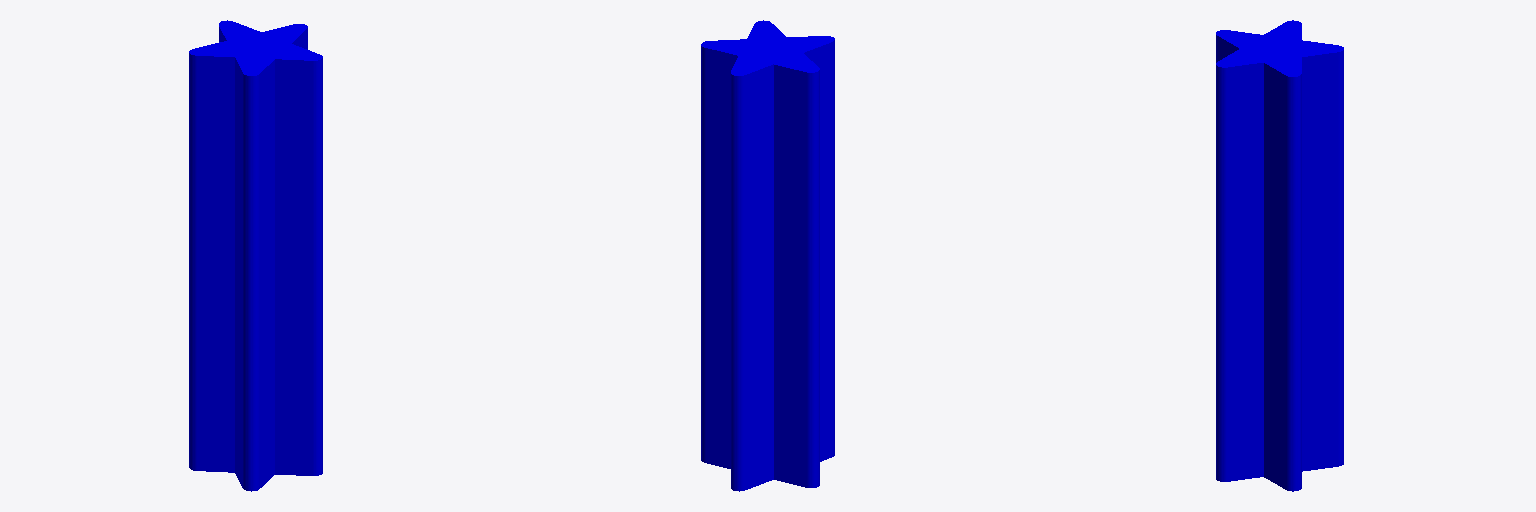
URDF robot description (board2_block18):
<?xml version="1.0"?>
<robot name="board2_block18">
    <link name="board2_block18">
        <visual>
            <origin xyz="0 0 0 " rpy=" 0 0 0"/>
            <geometry>
                <mesh filename="../meshes/SIMO_Board2_Block18.stl" scale="0.001 0.001 0.001"/>
            </geometry>
            <material name="red">
                <color rgba="0.0 0.0 1.0 1.0"/>
            </material>
        </visual>
        <collision>
            <origin xyz="0 0 0" rpy="0 0 0"/>
            <geometry>
                <mesh filename="../meshes/SIMO_Board2_Block18.stl" scale="0.001 0.001 0.001"/>
            </geometry>
        </collision>
    </link>
</robot>

--- Render facts (derived) ---
Views: 3 orthographic renders of the robot side by side, from view 1: azimuth 30°, elevation 25°; view 2: azimuth 150°, elevation 25°; view 3: azimuth 270°, elevation 25°.
Robot: board2_block18 — 1 links, 0 joints (none); root link board2_block18; default pose: every joint at zero.
Visible links, largest first — view 1: board2_block18; view 2: board2_block18; view 3: board2_block18.
Boxes of the visible links, bbox=[...] form: board2_block18: bbox=[189, 20, 322, 491]; board2_block18: bbox=[701, 20, 834, 491]; board2_block18: bbox=[1216, 20, 1343, 491].
Bounding box of the posed robot: 0.0439 × 0.0421 × 0.15 m (x, y, z).
Meshes: 1 distinct files referenced, 1 mesh visuals loaded (1 ASCII STL).
